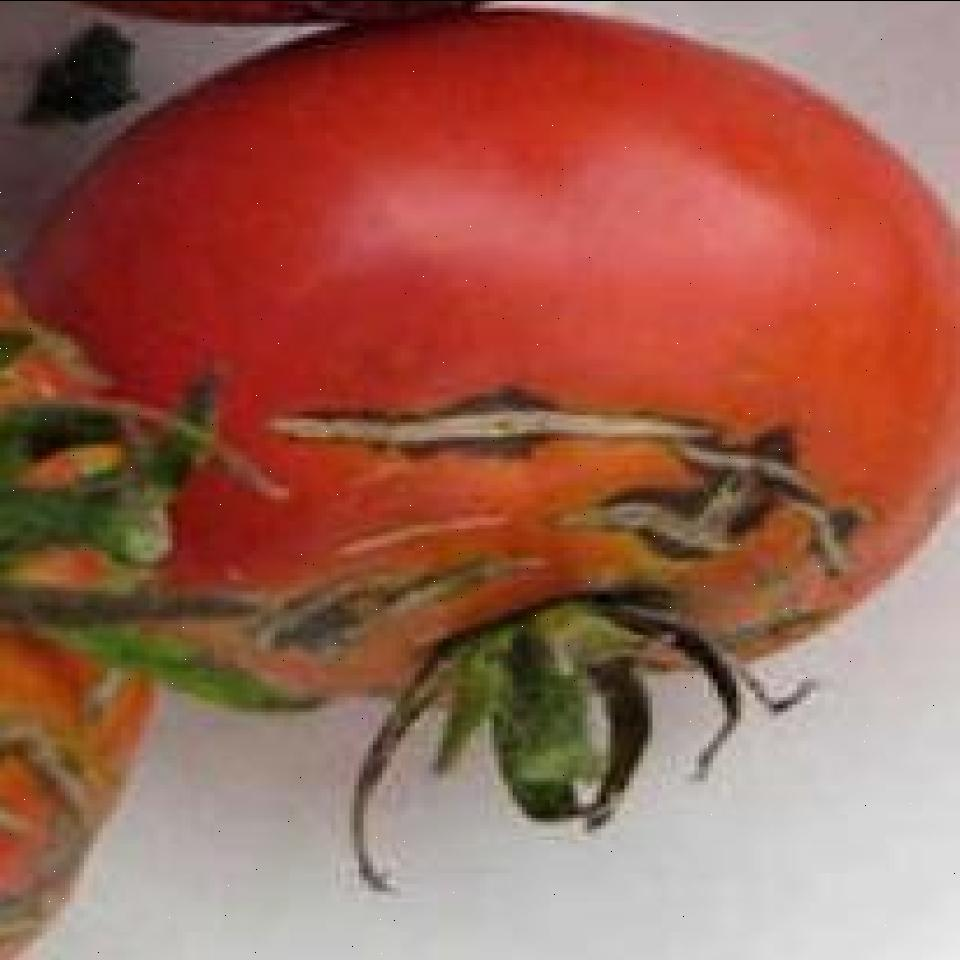Cracking: (268, 372, 766, 506), (221, 512, 562, 692), (572, 436, 895, 600)
